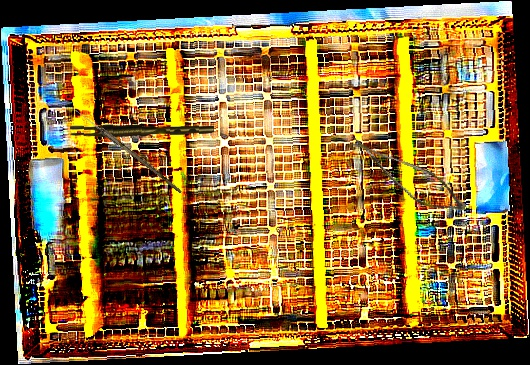Micro Scissor: (338, 136, 475, 219)
Surgical Spoon: (70, 106, 185, 194)
Tissue Forceps: (69, 120, 214, 142)
